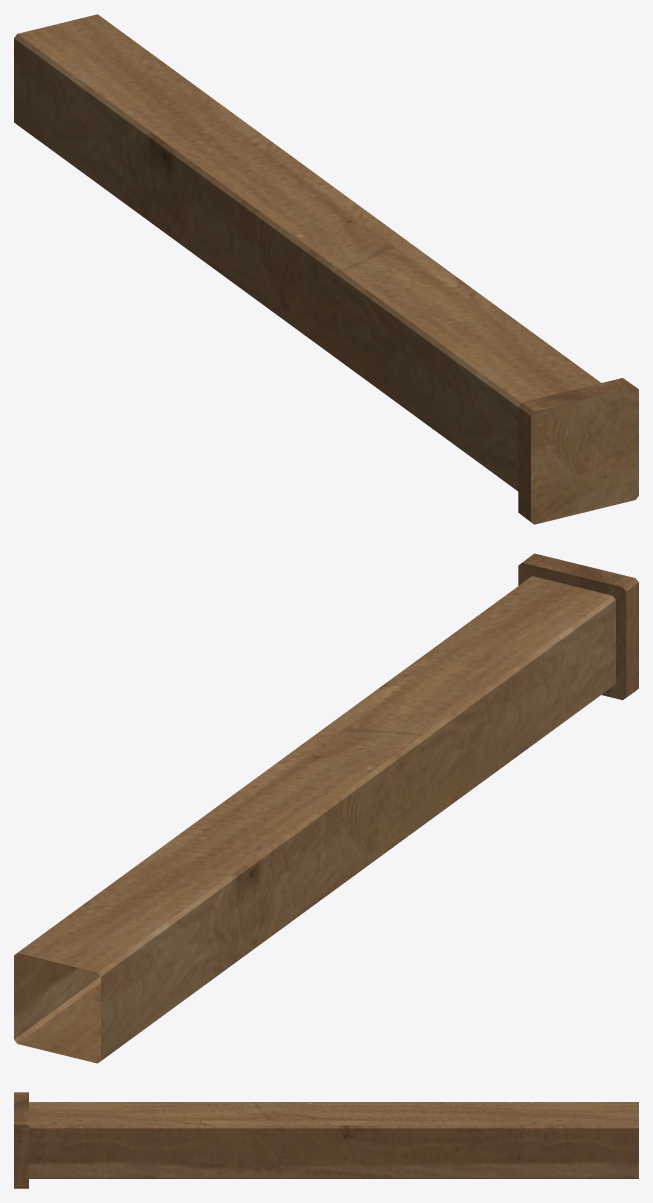
Rendered from nt_concrete_fence_post_tall_LOD0.obj.
The picture shows the model from 3 angles, top to bottom: view 1: azimuth 30°, elevation 25°; view 2: azimuth 150°, elevation 25°; view 3: azimuth 270°, elevation 25°; orthographic projection. The views are drawn at different scales.
Parts seen in each view (by area): view 1: nt_wood_post; view 2: nt_wood_post; view 3: nt_wood_post.
Boxes of the visible parts, box(x1,y1,x2,y2) form: nt_wood_post: box(14, 14, 638, 524); nt_wood_post: box(14, 553, 638, 1063); nt_wood_post: box(14, 1092, 638, 1188).
Size of the model in its own units: 25.22 by 25.22 by 213.
